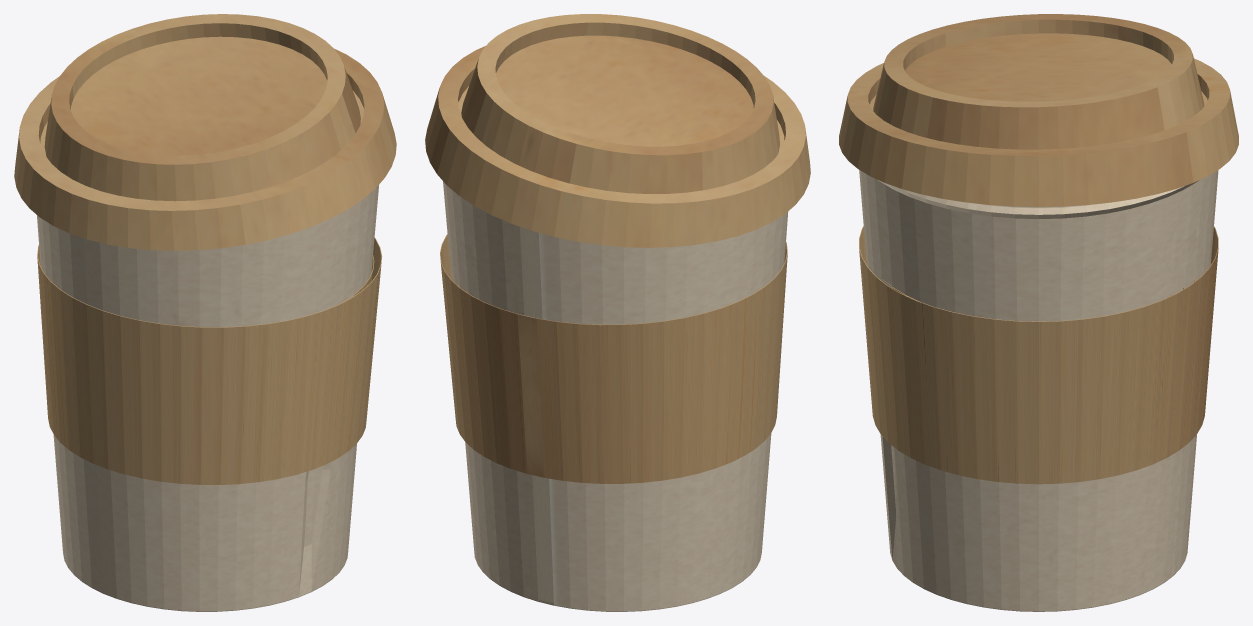
3 renders of one model, left to right at view 1: azimuth 30°, elevation 25°; view 2: azimuth 150°, elevation 25°; view 3: azimuth 270°, elevation 25°, orthographic. The views are drawn at different scales.
Bounding box in the file's own units: 0.0718 × 0.1 × 0.072.
Materials: 1 (1 with a texture image).
